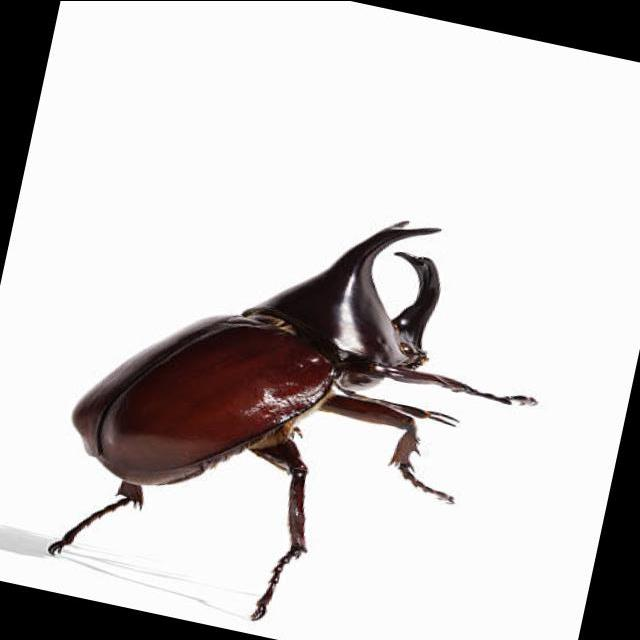Rhino-beetle: (58, 195, 458, 551)
